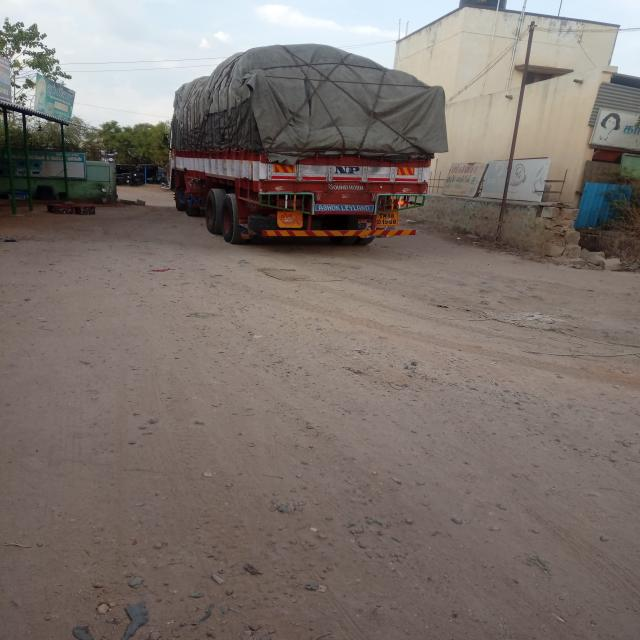Truck: (165, 45, 454, 249)
